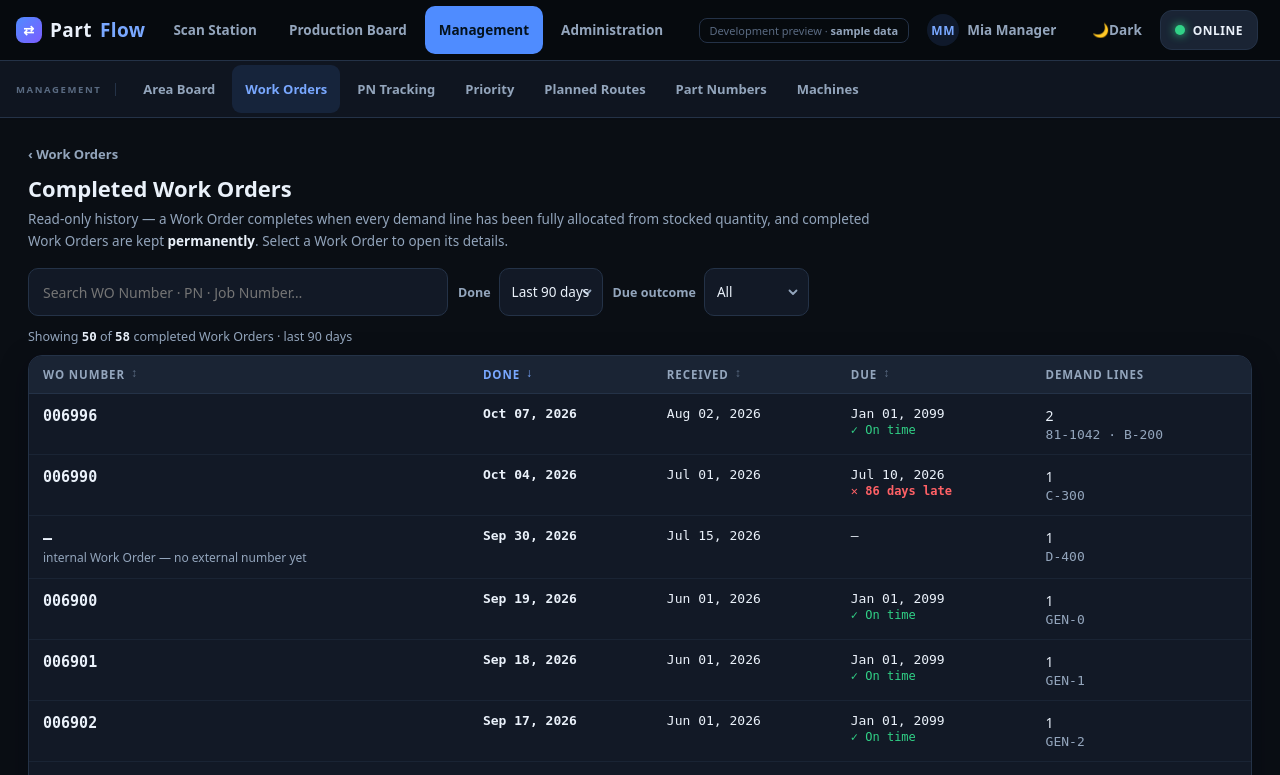
it: a search miss inside a bounded range offers one-click Search all history
The image size is (1280, 775).
Check: the heading "Completed Work Orders" is shown, box x1=28 y1=173 x2=292 y2=203
Check: the text "Showing 50 of 58 completed Work Orders · last 90 days" is shown, box x1=28 y1=328 x2=352 y2=345
# 006721 exists — but completed far outside the default 90-day window.
Type "006721" into the field named "Search completed Work Orders" at (238, 292), box x1=28 y1=268 x2=448 y2=316
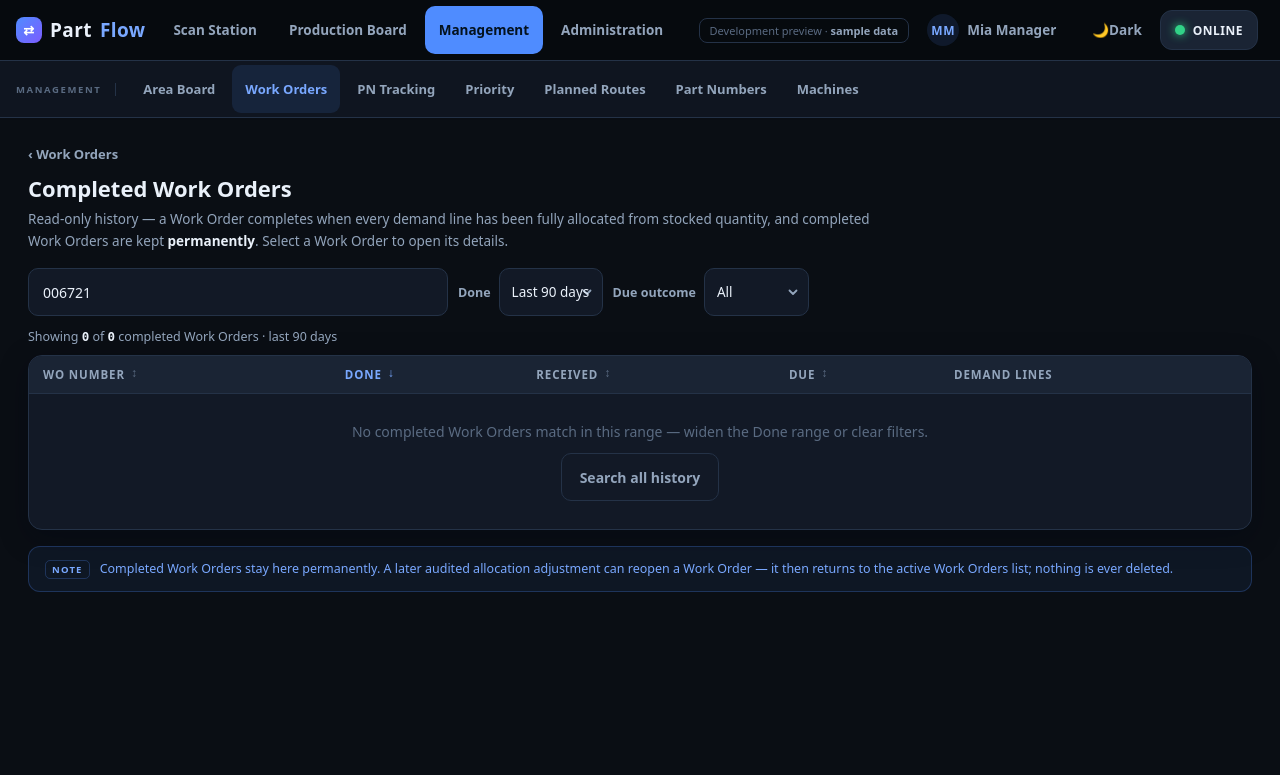
Check: the text "No completed Work Orders match in this range" is shown, box x1=352 y1=422 x2=928 y2=441
Click the button "Search all history" at (640, 477), box x1=561 y1=453 x2=719 y2=501
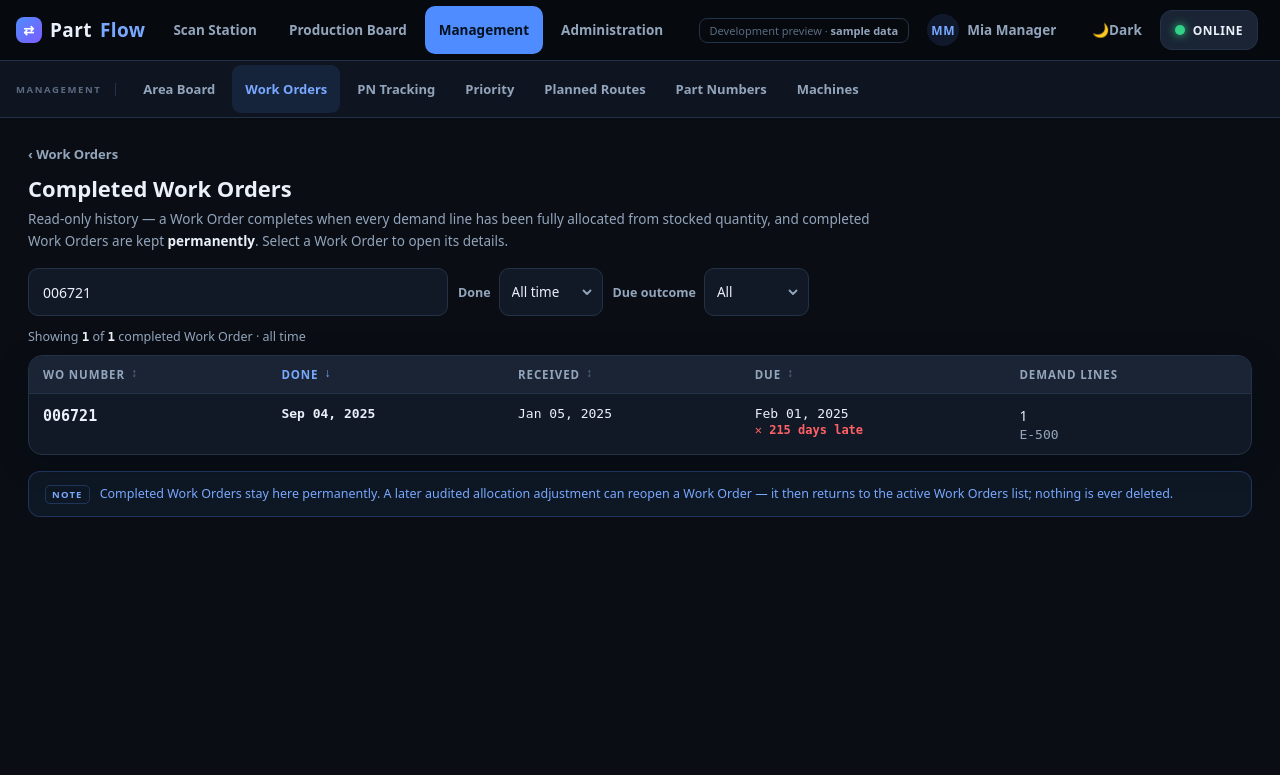
Check: the button named "Open Work Order 006721" is shown, box x1=43 y1=406 x2=253 y2=425
Check: the text "Showing 1 of 1 completed Work Order · all time" is shown, box x1=28 y1=328 x2=306 y2=345
